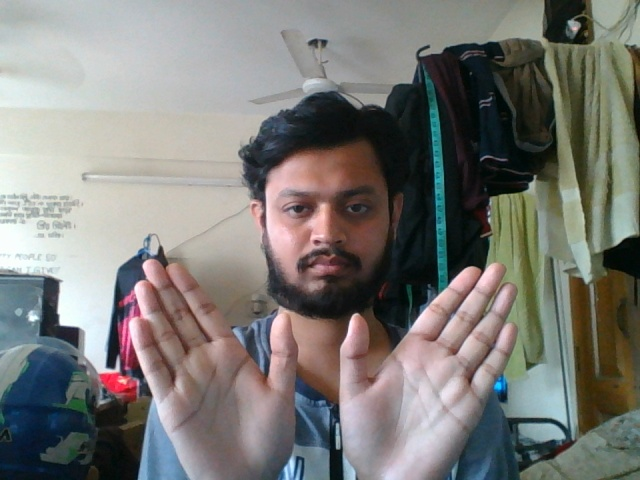naa: (127, 256, 527, 480)
